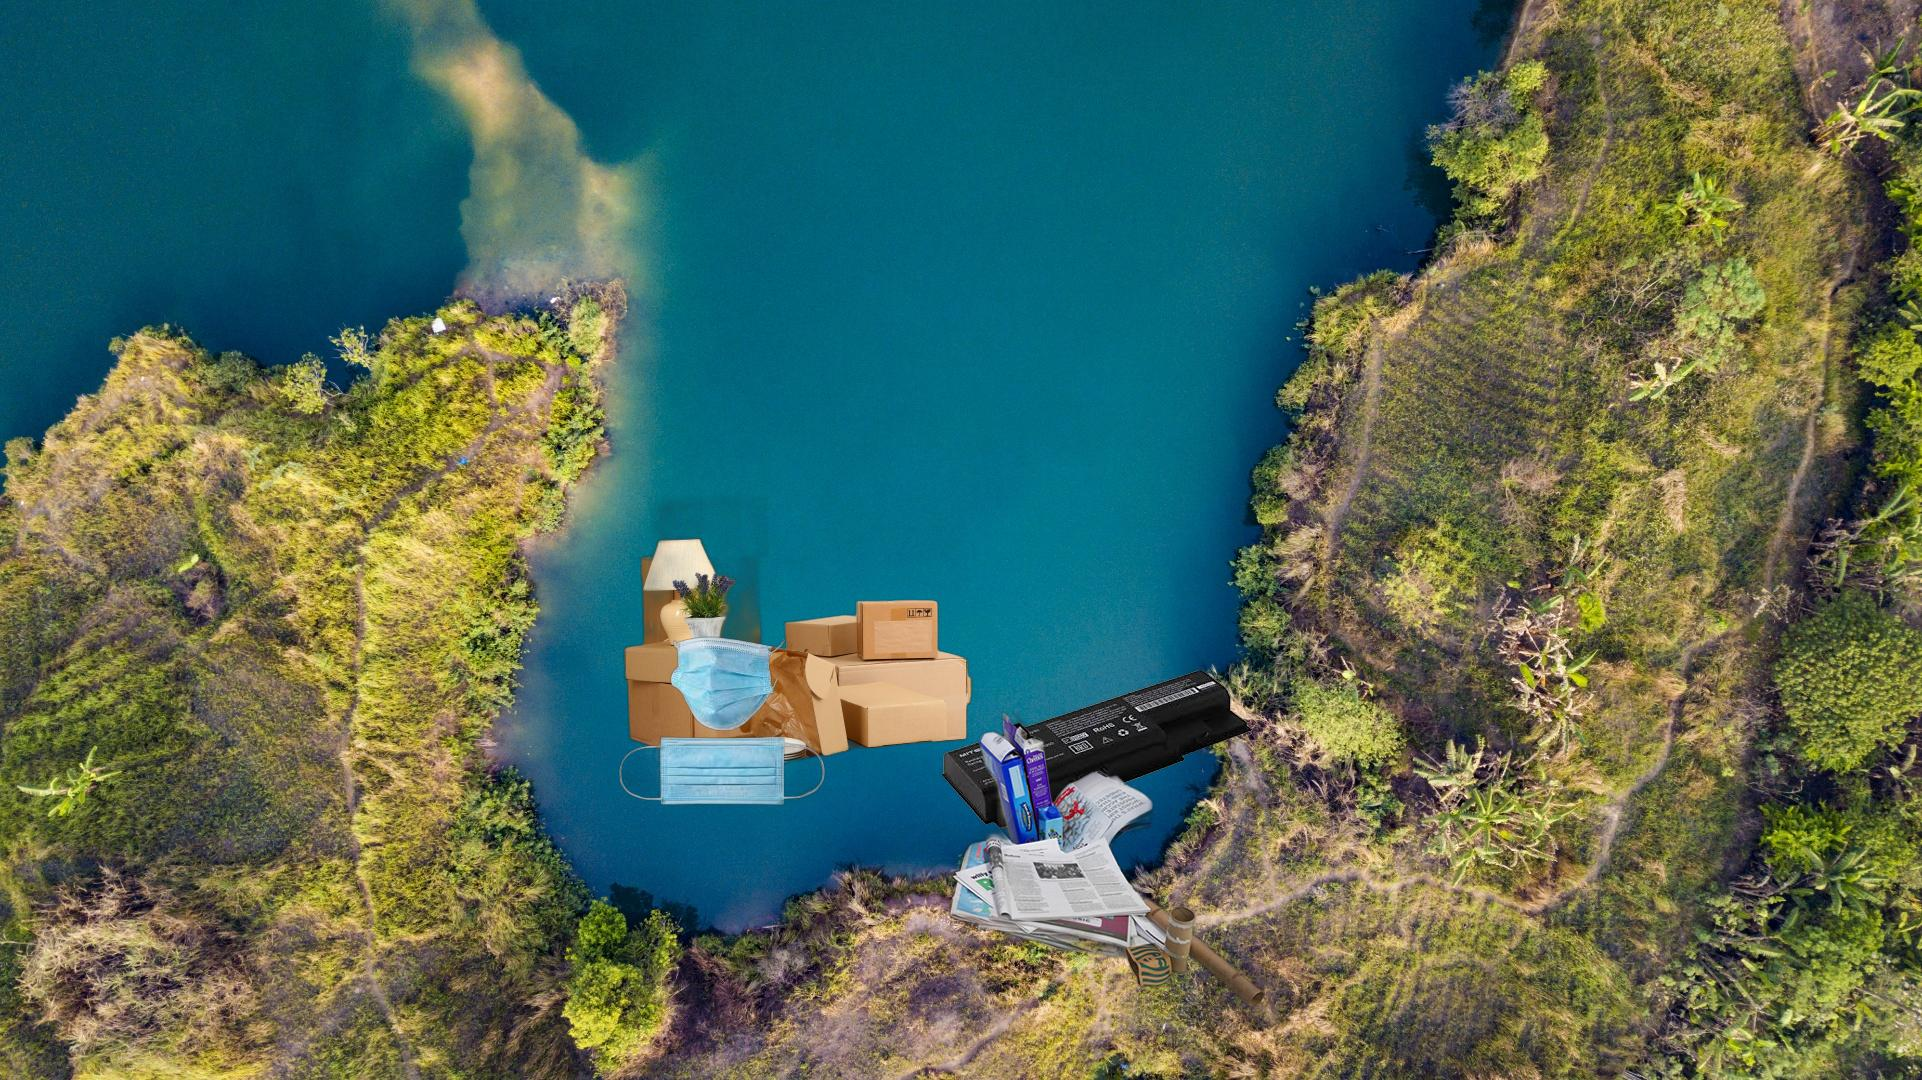battery: (940, 668, 1253, 829)
shoes: (851, 1077, 1040, 1080)
trash: (616, 634, 828, 808)
trashbox-cardboard: (865, 706, 1273, 1029), (620, 492, 976, 808)
